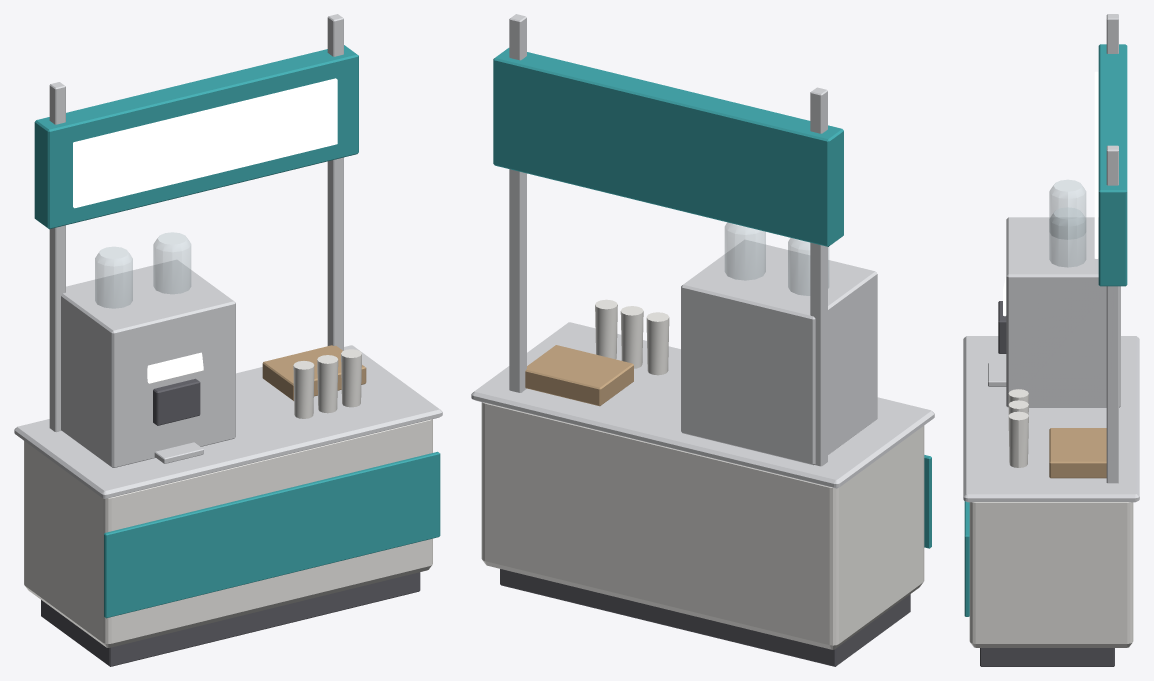
The model's file is motorway-services-and-truck-park-coffee-stand-342246e3__35937.glb.
3 renders of one model, left to right at view 1: azimuth 30°, elevation 25°; view 2: azimuth 150°, elevation 25°; view 3: azimuth 270°, elevation 25°, orthographic. The views are drawn at different scales.
Visible parts, largest first — view 1: coffee-stand; view 2: coffee-stand; view 3: coffee-stand.
Boxes of the visible parts, left/top/right/bottom form: coffee-stand: left=14, top=14, right=442, bottom=666; coffee-stand: left=471, top=14, right=934, bottom=666; coffee-stand: left=963, top=14, right=1139, bottom=666.
Bounding box in the file's own units: 1.86 × 2.76 × 0.8599.
